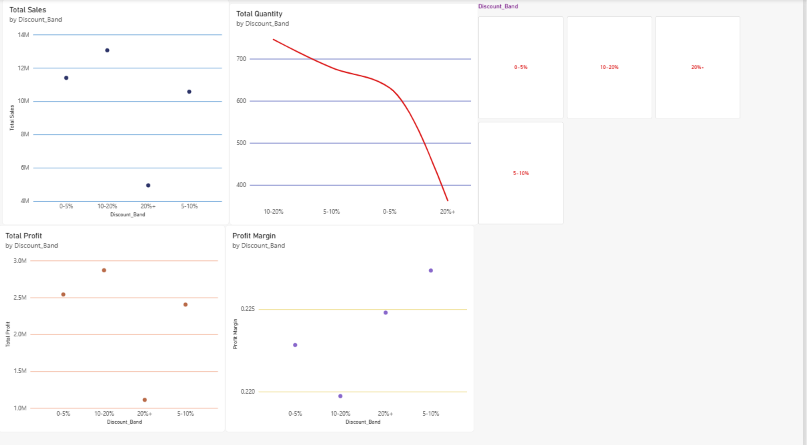

Layout of this report page (visuals, bound fields, positions):
{"tool":"powerbi","page":{"name":"Discount & Profitability","canvas":[1920,1080],"ordinal":1},"visuals":[{"type":"scatterChart","fields":{"X":["Invoice_Data.Discount_Band"],"Y":["Invoice_Data.Total Sales"]},"box":[9.5,0,541.6,539.2],"z":0},{"type":"scatterChart","fields":{"X":["Invoice_Data.Discount_Band"],"Y":["Invoice_Data.Total Profit"]},"box":[0,539.2,541.6,493.9],"z":1},{"type":"lineChart","fields":{"Category":["Invoice_Data.Discount_Band"],"Y":["Invoice_Data.Total Quantity"]},"box":[551.1,9.5,594.1,529.7],"z":2},{"type":"scatterChart","fields":{"X":["Invoice_Data.Discount_Band"],"Y":["Invoice_Data.Profit Margin"]},"box":[541.6,539.2,594.1,493.9],"z":3},{"type":"advancedSlicerVisual","fields":{"Values":["Invoice_Data.Discount_Band"]},"box":[1145.2,9.5,627.5,529.7],"z":4}]}

Visuals, with their boxes in screenshot pixels (x1, y1, x2, y2), scaled from the page's 1920x1080 canvas onto the 807x445 screenshot:
scatterChart - Invoice_Data.Discount_Band x Invoice_Data.Total Sales: (4, 0, 232, 222)
scatterChart - Invoice_Data.Discount_Band x Invoice_Data.Total Profit: (0, 222, 228, 426)
lineChart - Invoice_Data.Discount_Band x Invoice_Data.Total Quantity: (232, 4, 481, 222)
scatterChart - Invoice_Data.Discount_Band x Invoice_Data.Profit Margin: (228, 222, 477, 426)
advancedSlicerVisual - Invoice_Data.Discount_Band: (481, 4, 745, 222)
